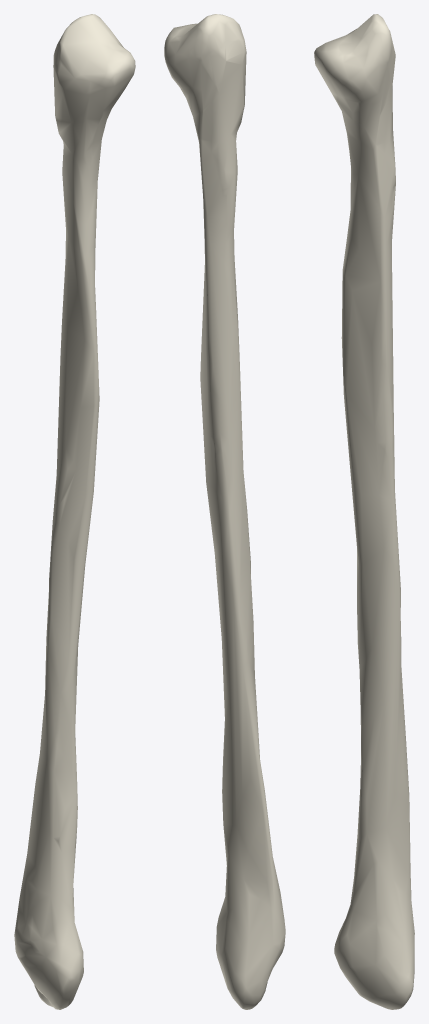
3 views of the same model, side by side, from view 1: azimuth 30°, elevation 25°; view 2: azimuth 210°, elevation 25°; view 3: azimuth 270°, elevation 25° (orthographic).
Parts seen in each view (by area): view 1: ZA_6c8b3ad8730200ce; view 2: ZA_6c8b3ad8730200ce; view 3: ZA_6c8b3ad8730200ce.
Boxes of the visible parts, left/top/right/bottom form: ZA_6c8b3ad8730200ce: left=14, top=14, right=135, bottom=1009; ZA_6c8b3ad8730200ce: left=164, top=14, right=285, bottom=1009; ZA_6c8b3ad8730200ce: left=314, top=14, right=414, bottom=1009.
Size of the model in its own units: 0.0362 by 0.3625 by 0.0329.
